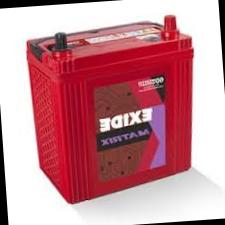battery: (8, 0, 224, 214)
